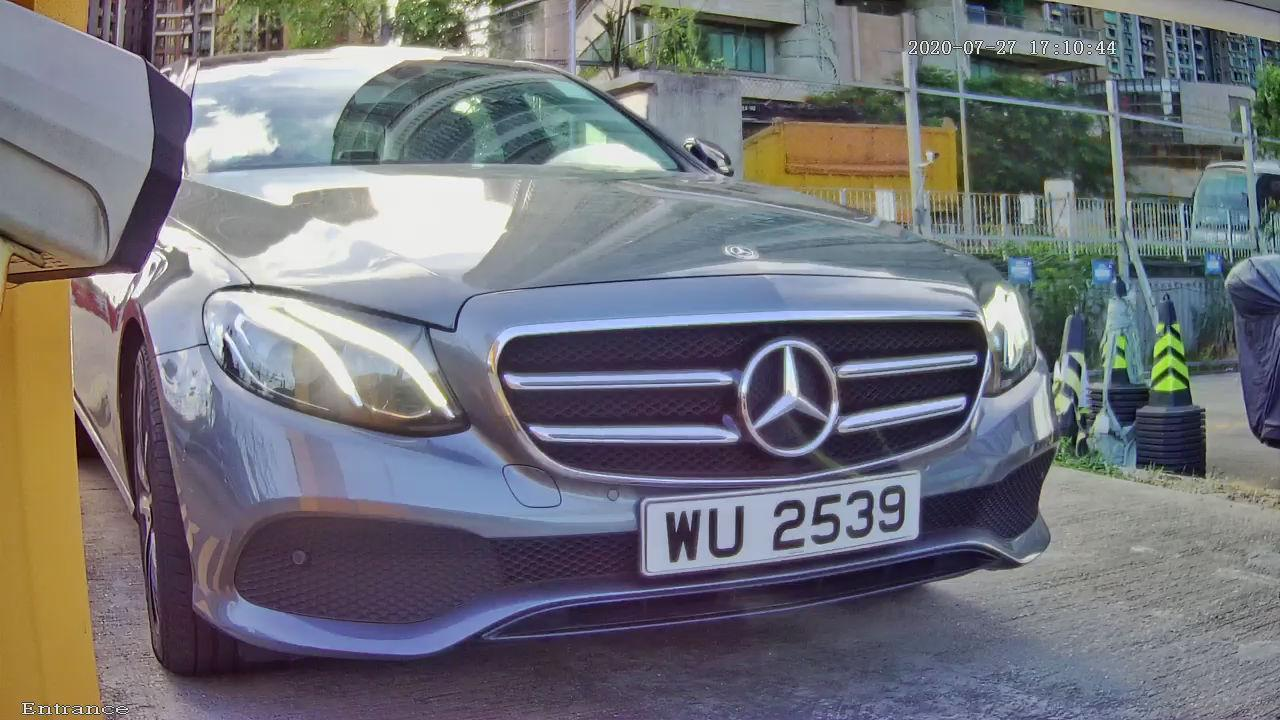privatecar: (46, 23, 1138, 685)
